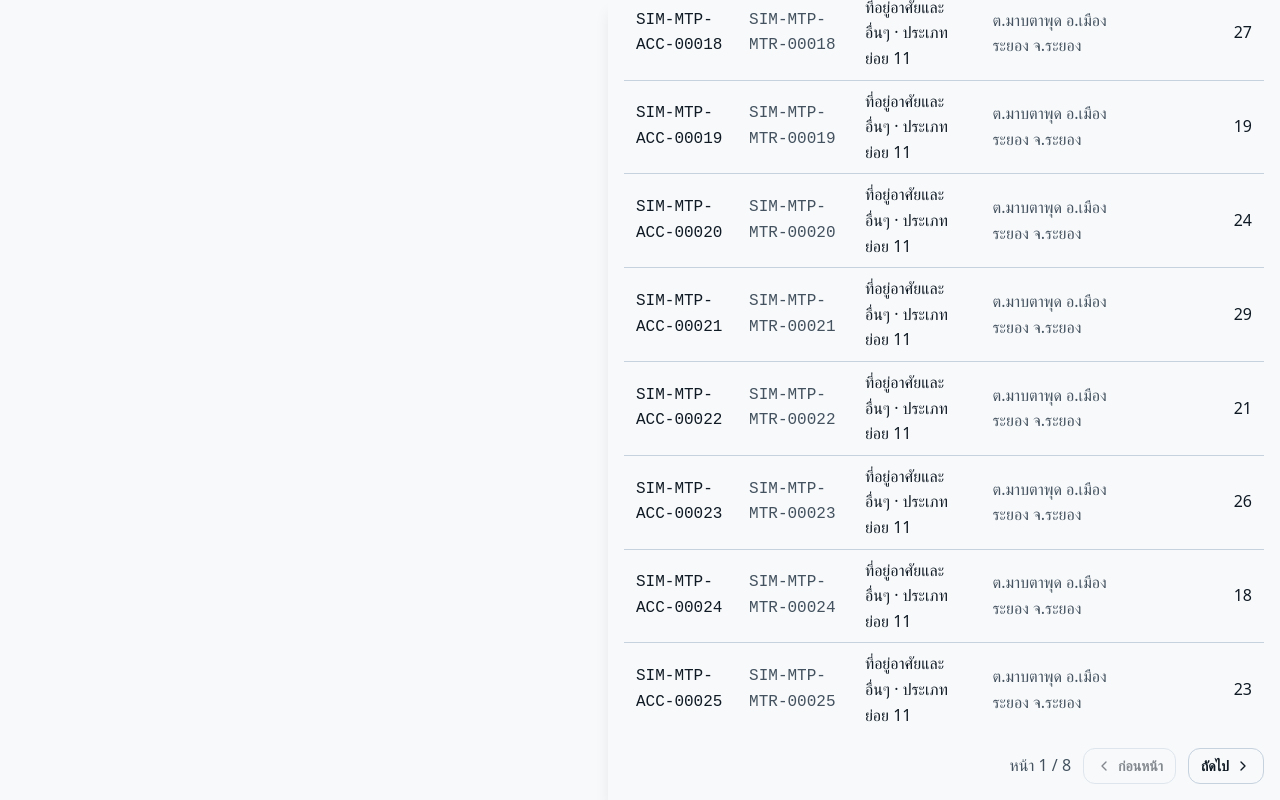
Scenario: AffectedCustomerDrawer (R5/R6/R8) › T4d2: changing the filter resets to page 1
(page scrolled)
Click the button with test id "customer-next".
click(1226, 766)  # box x1=1188 y1=748 x2=1264 y2=784
(page scrolled)
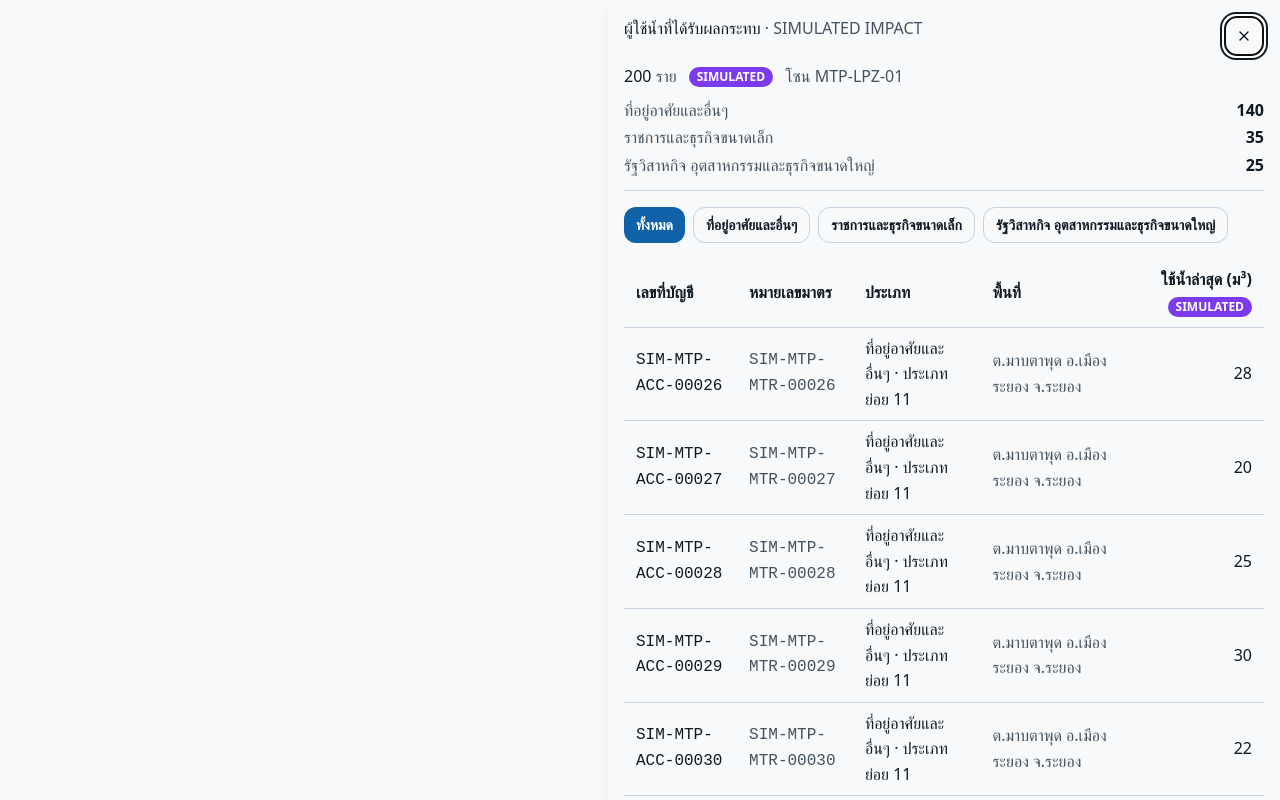
Click the button with test id "filter-type-2".
click(897, 225)  # box x1=818 y1=207 x2=975 y2=243
(page scrolled)
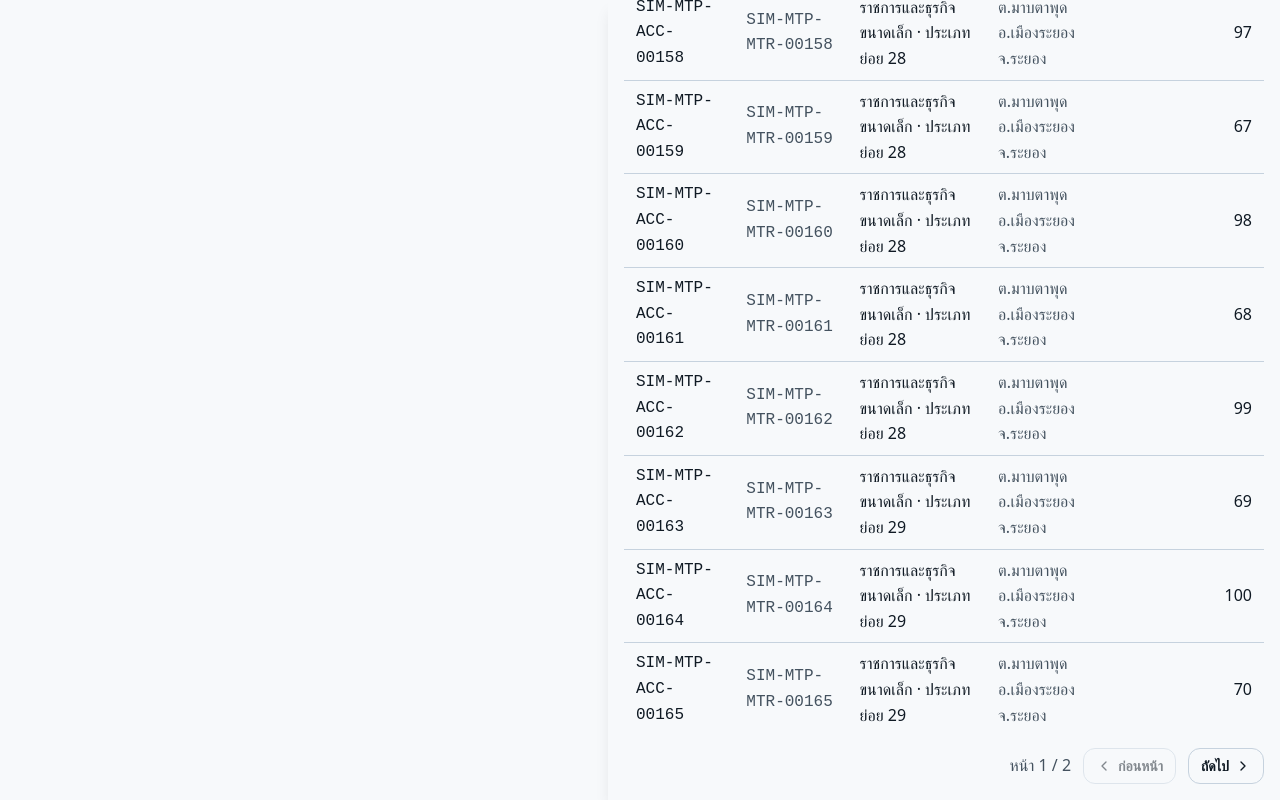
Result: the text with test id "pager" shows "1" at x1=1038 y1=754 x2=1048 y2=776
